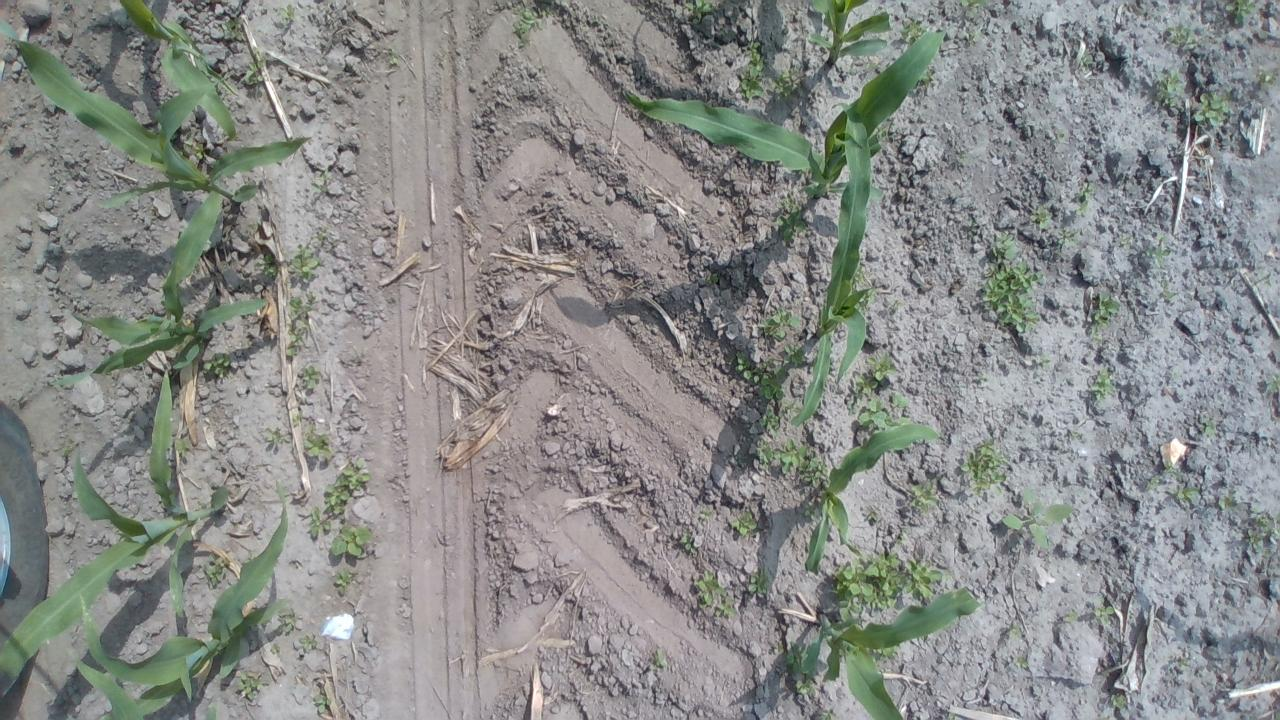Maize: (0, 369, 230, 684), (0, 16, 311, 206), (624, 25, 945, 202), (74, 481, 290, 720), (54, 189, 268, 386), (790, 100, 878, 430), (802, 586, 979, 720), (807, 423, 949, 575), (116, 0, 240, 142), (68, 650, 217, 720), (806, 0, 892, 65)
Weeds: (829, 551, 942, 621), (1002, 488, 1074, 550), (981, 262, 1043, 332), (960, 439, 1010, 496), (322, 460, 371, 514), (759, 344, 806, 400), (857, 394, 911, 434), (740, 42, 766, 100), (329, 524, 372, 558), (776, 195, 806, 243), (759, 306, 801, 340), (692, 568, 724, 610), (1194, 92, 1232, 126), (847, 374, 878, 415), (774, 438, 809, 474), (785, 640, 816, 680), (1154, 69, 1184, 110), (1092, 291, 1120, 333), (512, 4, 538, 44), (288, 292, 315, 330), (291, 244, 319, 280), (911, 481, 940, 514), (772, 68, 800, 102), (802, 451, 828, 486), (303, 426, 332, 457), (866, 352, 897, 381), (244, 46, 267, 84), (1090, 368, 1116, 400), (1165, 24, 1198, 49), (735, 351, 760, 383), (236, 672, 264, 700), (992, 231, 1017, 262), (204, 554, 228, 586), (203, 352, 232, 378), (684, 0, 716, 23), (1226, 0, 1255, 25), (310, 506, 332, 538), (730, 511, 757, 537), (901, 20, 927, 44), (759, 408, 780, 437), (1094, 596, 1114, 626), (254, 254, 278, 278), (300, 365, 324, 389), (854, 286, 876, 312), (747, 571, 770, 595), (222, 19, 246, 41), (866, 644, 899, 660), (1146, 246, 1170, 268), (756, 437, 773, 468), (715, 596, 738, 618), (1029, 207, 1052, 229), (285, 328, 303, 356), (333, 569, 352, 595), (276, 608, 296, 632), (1170, 486, 1198, 503), (265, 427, 290, 446), (312, 170, 331, 192), (794, 679, 816, 698), (680, 530, 697, 554), (184, 140, 204, 160), (1056, 228, 1078, 246), (649, 648, 666, 669), (782, 398, 802, 415), (314, 694, 331, 714), (278, 4, 296, 22), (1248, 528, 1262, 550), (300, 633, 318, 650), (1217, 493, 1235, 510), (176, 438, 192, 457), (1077, 182, 1095, 197), (804, 502, 818, 521), (1265, 374, 1280, 391), (964, 31, 981, 46), (1110, 694, 1128, 708), (312, 228, 328, 243), (918, 68, 932, 84), (1260, 71, 1276, 85), (1203, 420, 1216, 437), (1075, 199, 1088, 216), (962, 0, 986, 9), (1080, 52, 1092, 70), (1146, 476, 1160, 491), (852, 269, 867, 283), (1165, 461, 1178, 476), (704, 273, 718, 286), (292, 410, 304, 425), (1010, 623, 1021, 639), (1014, 656, 1028, 668), (1120, 234, 1132, 248), (388, 48, 398, 64), (1040, 354, 1050, 370), (1257, 516, 1270, 528), (1065, 611, 1078, 622), (889, 299, 904, 308), (895, 534, 907, 545), (867, 510, 878, 522), (820, 711, 834, 720), (700, 508, 712, 518), (846, 62, 856, 74), (243, 554, 254, 564), (956, 154, 969, 162), (540, 6, 550, 16), (60, 446, 70, 456), (774, 644, 784, 654), (1164, 290, 1176, 298), (1058, 130, 1066, 142), (1093, 336, 1104, 344), (968, 220, 978, 228), (270, 645, 280, 652), (1070, 432, 1080, 438), (866, 64, 876, 70), (948, 712, 956, 719), (1162, 279, 1168, 287), (170, 133, 176, 140), (177, 150, 184, 156), (196, 504, 203, 510)
